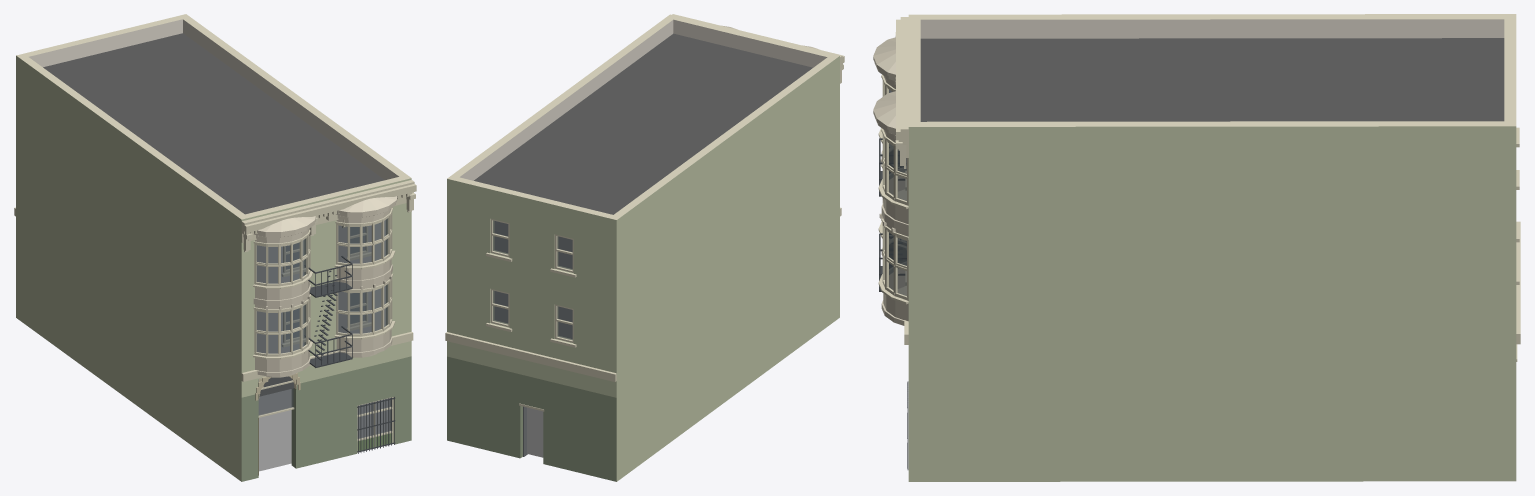
File: exterior.glb
3 views of the same model, side by side, from view 1: azimuth 30°, elevation 25°; view 2: azimuth 150°, elevation 25°; view 3: azimuth 270°, elevation 25° (orthographic). The views are drawn at different scales.
Visible parts, largest first — view 1: shell, roof, bay-glazing-hyb, shadow-proxy, bay-windows-hyb, trim, glazing, fire-escape, storefront, front-dressing-r4, frames, front-dressing; view 2: shell, roof, trim, shadow-proxy, glazing, frames; view 3: shell, roof, bay-glazing-hyb, bay-windows-hyb, trim.
Boxes of the visible parts, x1,y1,x2,y2 form: shell: [16, 14, 411, 481]; roof: [43, 33, 384, 214]; bay-glazing-hyb: [253, 208, 395, 359]; shadow-proxy: [257, 220, 389, 471]; bay-windows-hyb: [253, 196, 397, 377]; trim: [14, 180, 416, 381]; glazing: [258, 227, 391, 438]; fire-escape: [304, 256, 352, 367]; storefront: [258, 378, 395, 475]; front-dressing-r4: [243, 192, 415, 396]; frames: [283, 226, 367, 342]; front-dressing: [244, 193, 410, 400]; shell: [447, 14, 839, 481]; roof: [474, 33, 812, 214]; trim: [445, 14, 844, 381]; shadow-proxy: [495, 221, 572, 457]; glazing: [493, 220, 572, 339]; frames: [490, 219, 573, 343]; shell: [908, 14, 1516, 481]; roof: [920, 38, 1504, 121]; bay-glazing-hyb: [878, 74, 908, 304]; bay-windows-hyb: [873, 37, 908, 325]; trim: [896, 17, 1520, 344].
Bounding box in the file's own units: 7.44 × 10.9 × 18.02.
